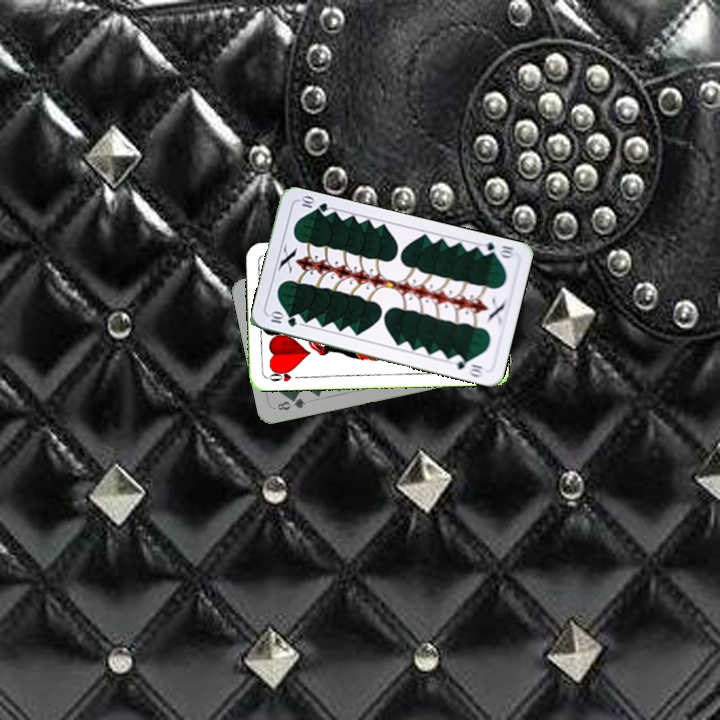G10: (476, 238, 517, 261), (265, 309, 300, 329)
G8: (273, 394, 308, 413)
HO: (263, 366, 304, 384)
